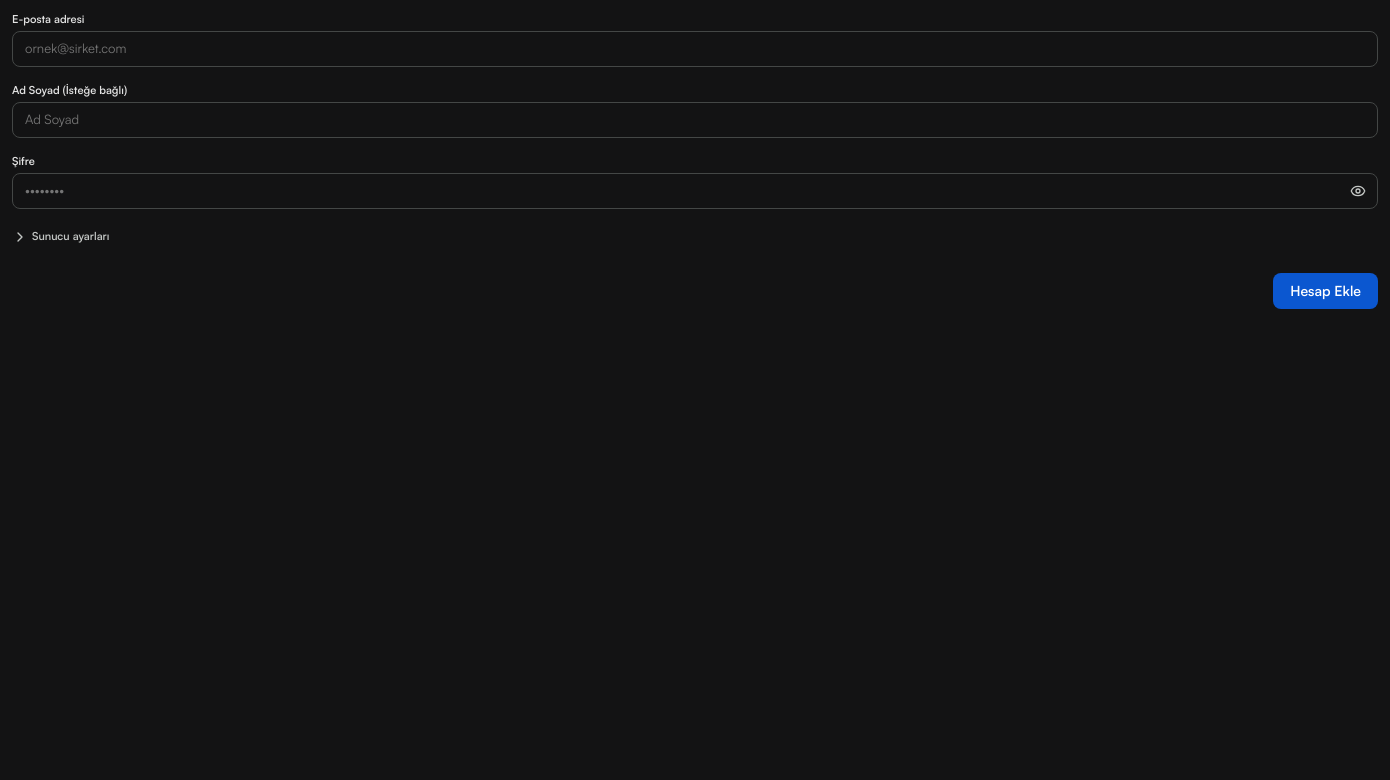
it: Shared Account Setup Form (Parity Fix) › 9. automatically expands server settings and shows alert on SMTP error
Type "user@test.com" into the field labelled "E-posta adresi" at (695,49), box x1=12 y1=31 x2=1378 y2=67
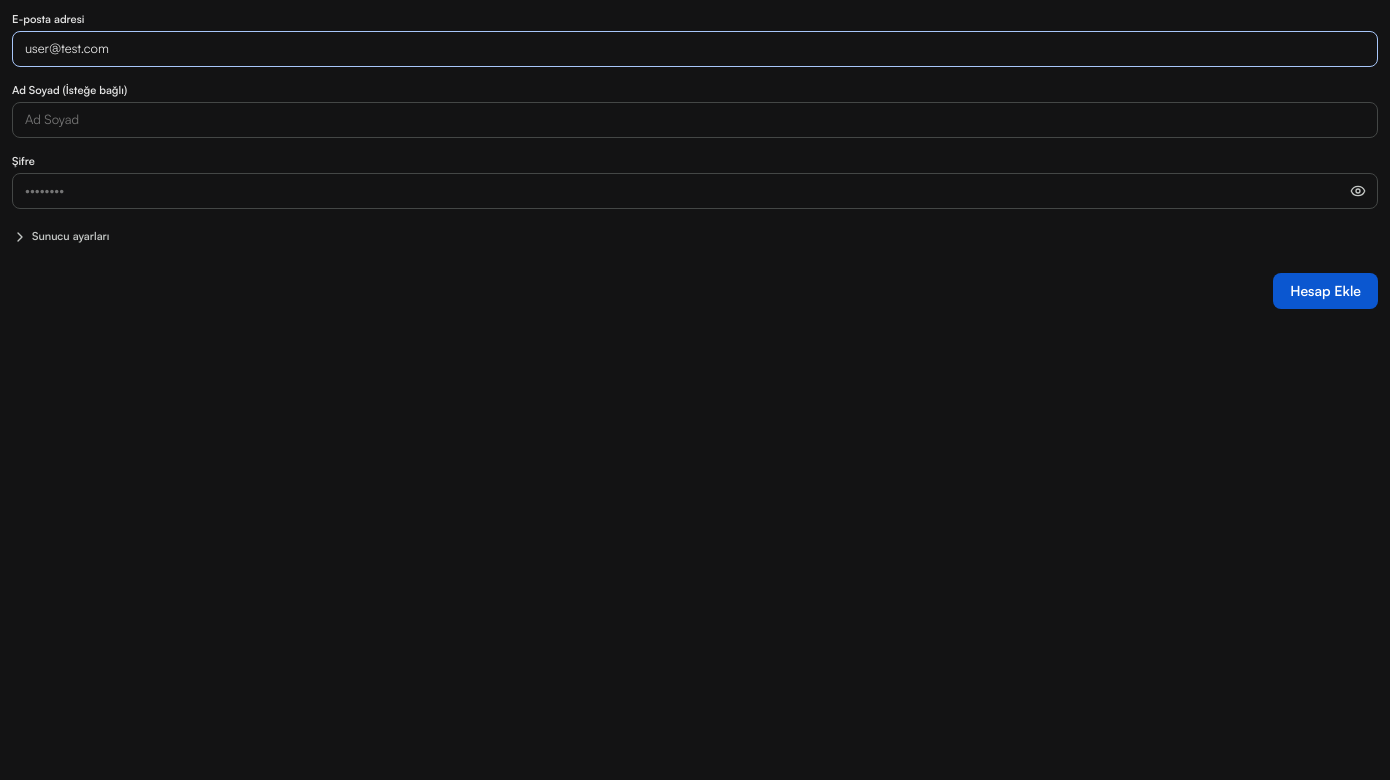
Type "secret123" into the password field labelled "Şifre" at (695,191), box x1=12 y1=173 x2=1378 y2=209
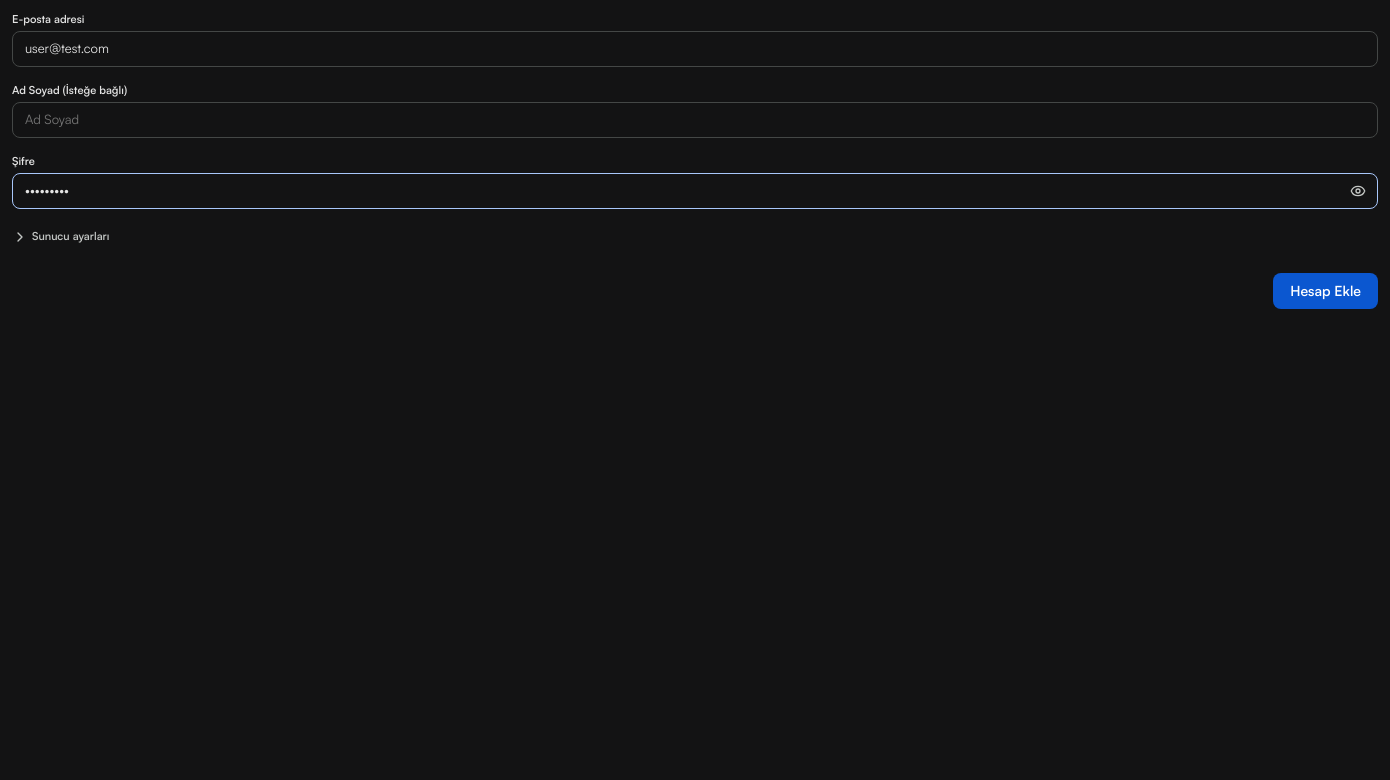
Click the button "Hesap Ekle" at (1326,291), box x1=1273 y1=273 x2=1378 y2=309
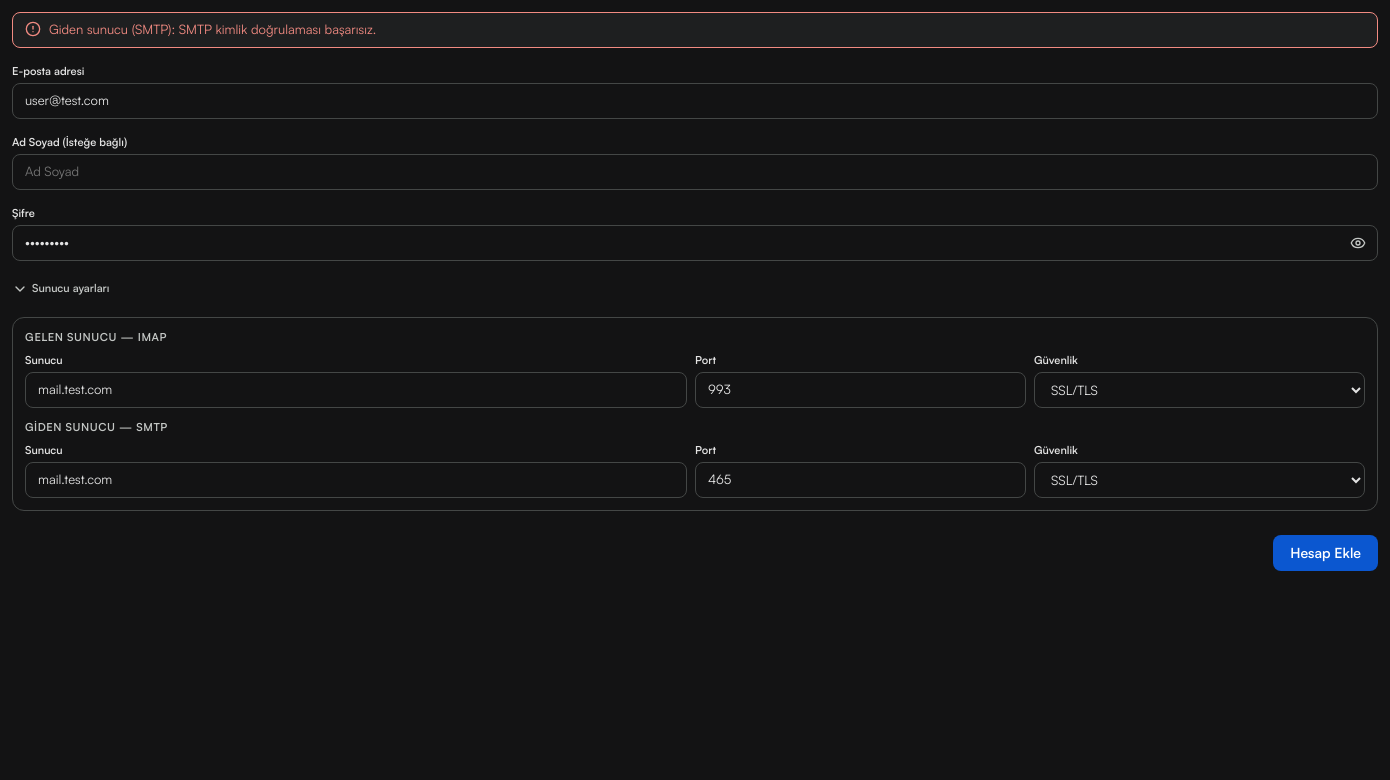
expect the message shows "Giden sunucu (SMTP): SMTP kimlik doğrulaması başarısız": met, box x1=49 y1=21 x2=376 y2=37
expect the heading "Gelen sunucu — IMAP" is shown: met, box x1=25 y1=330 x2=167 y2=344
